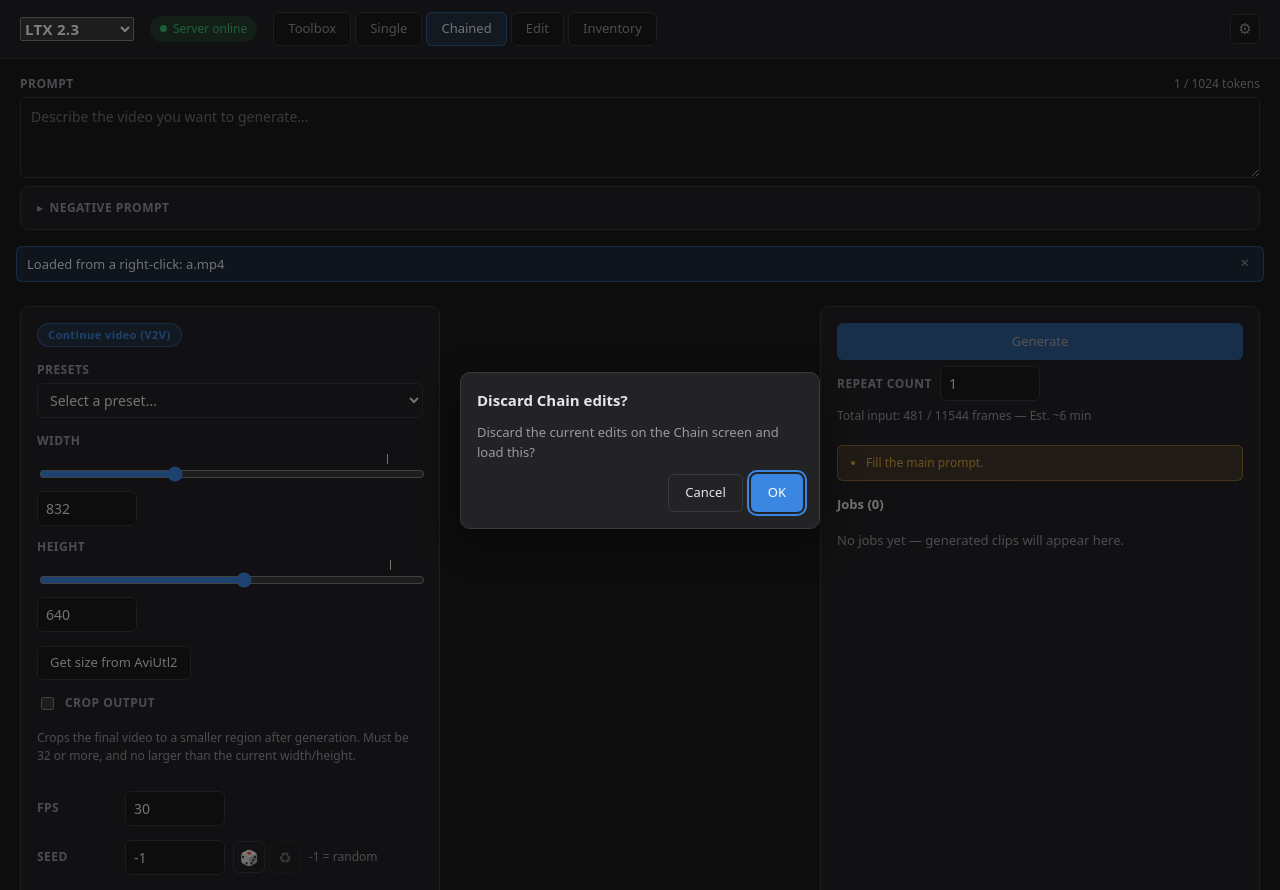
Test case: App / right-click routing -> prefill › a dirty Chain's #6 route continues the load when the discard dialog is confirmed (OK)
Check: the button "Generate" is shown, box [837,323,1243,360]
Click the button "OK" at (777, 493), box [751,474,803,512]
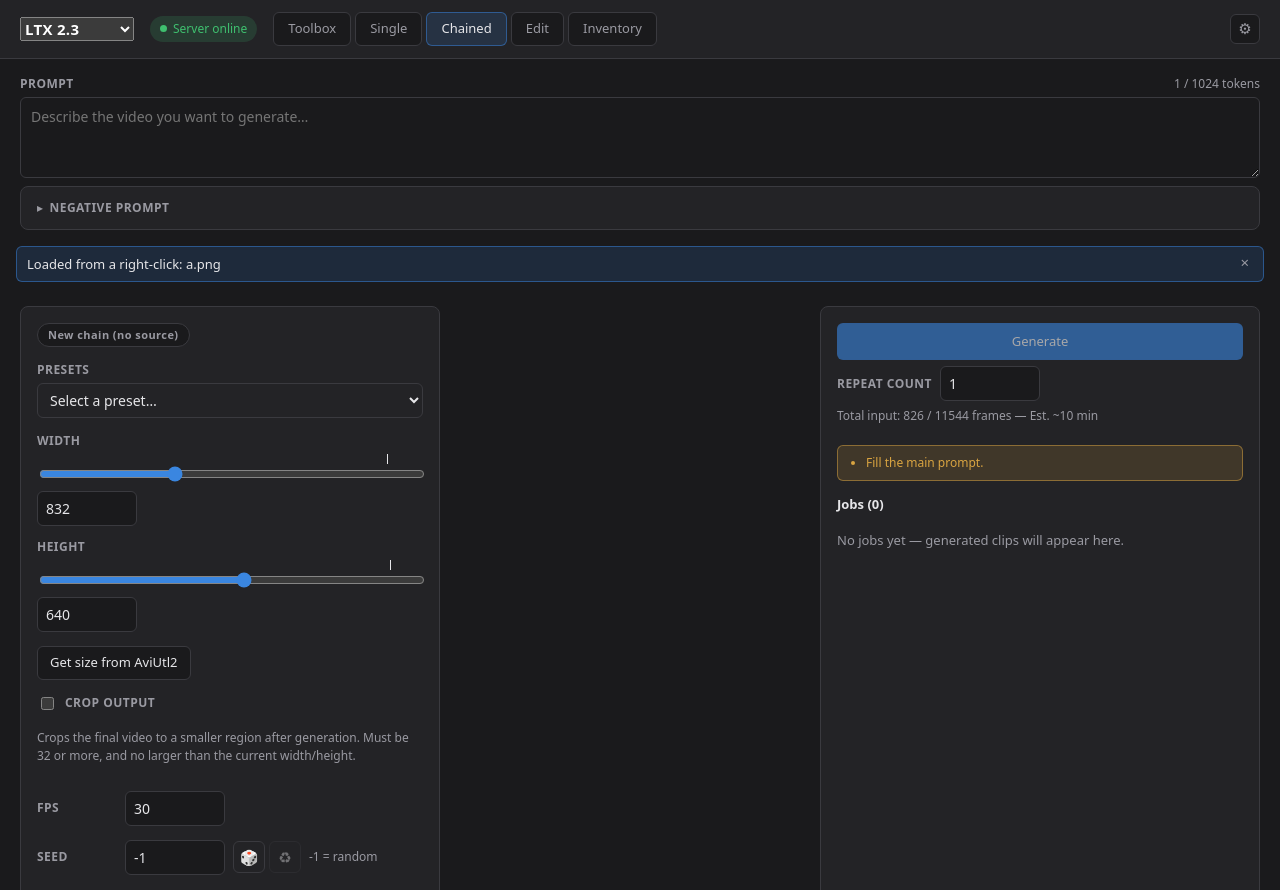
Check: the text "Loaded from a right-click: a.png" is shown, box [27,254,221,272]
